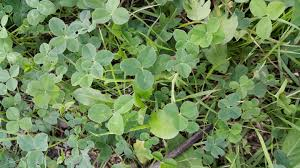4-clover: (46, 17, 85, 56), (216, 93, 243, 123)
